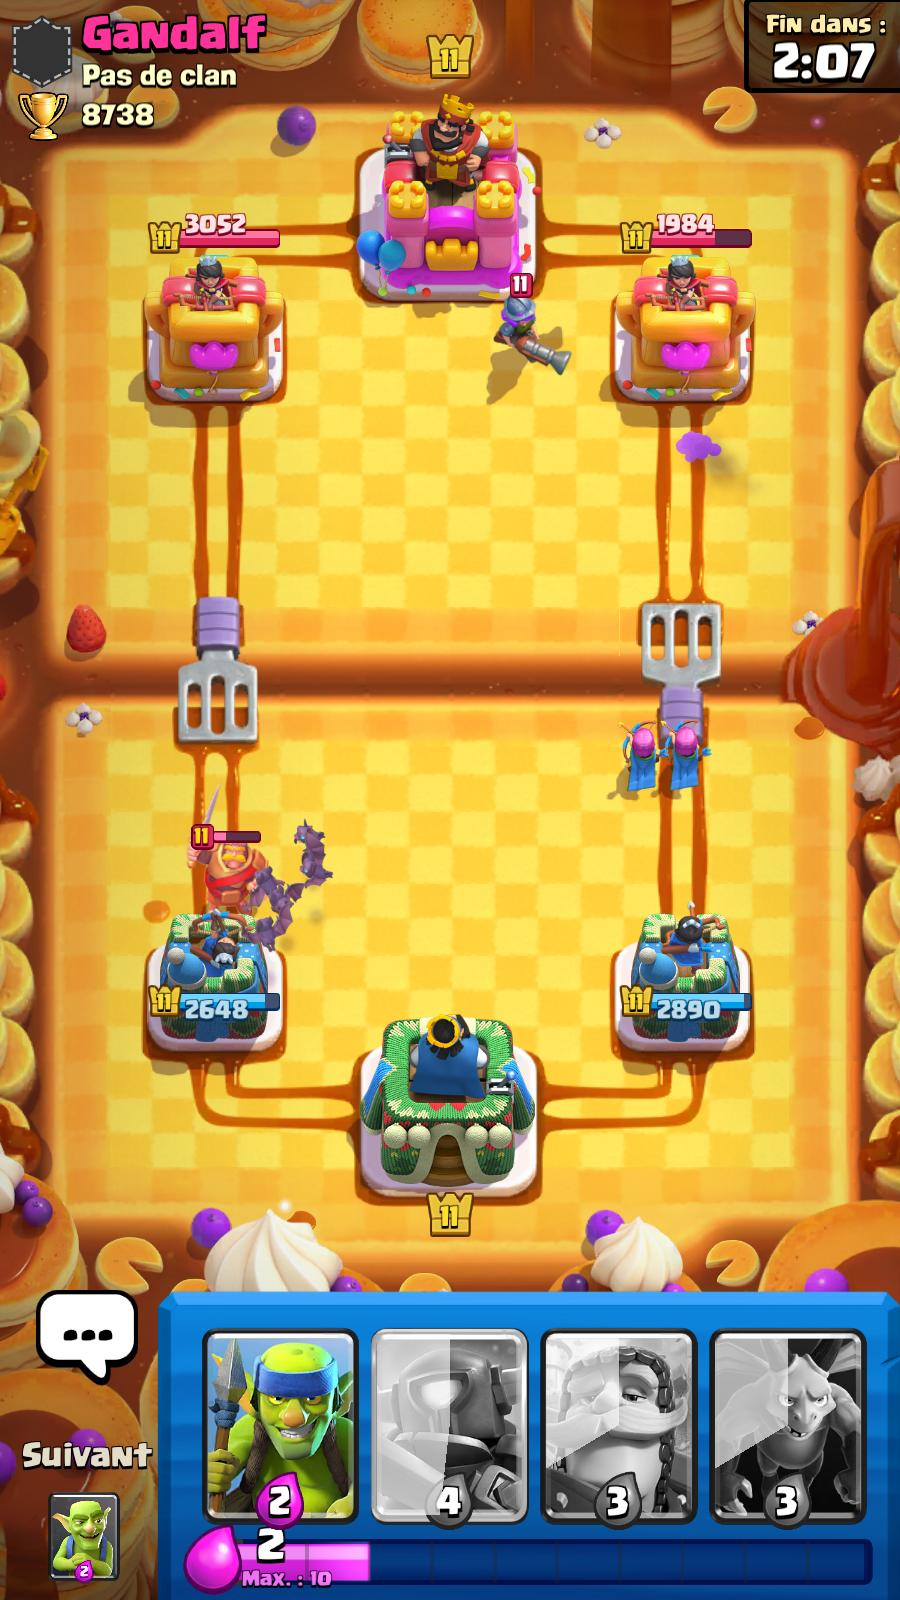archere: (653, 713, 713, 796), (613, 709, 664, 801)
bat: (289, 807, 335, 852), (247, 909, 286, 955), (301, 855, 343, 892), (267, 893, 307, 927), (247, 863, 286, 893)
chevalier: (181, 825, 269, 918)
mousquetaire: (482, 266, 591, 384)
